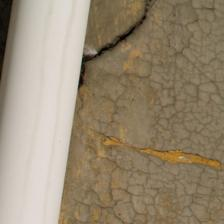Crack: (38, 1, 115, 85)
